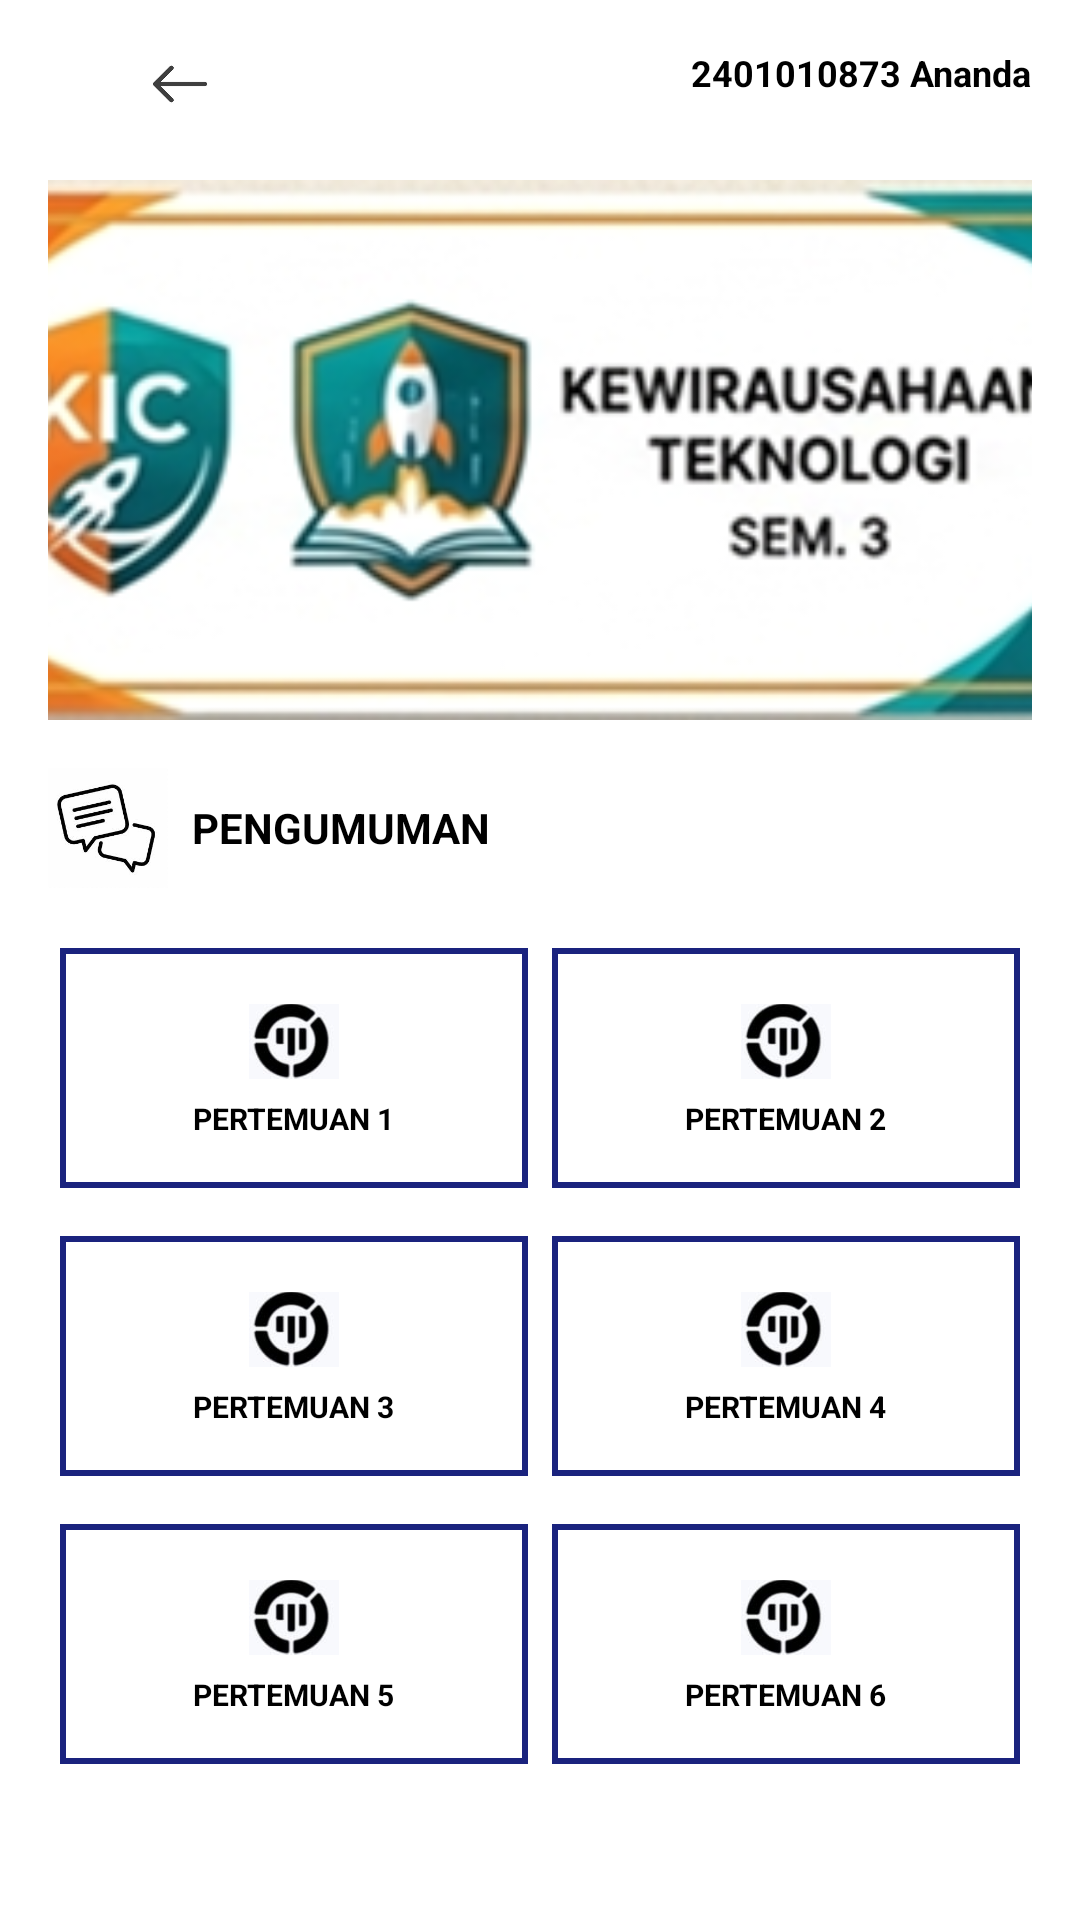

Icon bounding boxes for this 1080px×1920px phone screenshot, format rect(x1, y1, x2, y2):
announcementicon: rect(57, 784, 155, 873)
arrow back: rect(153, 65, 207, 103)
